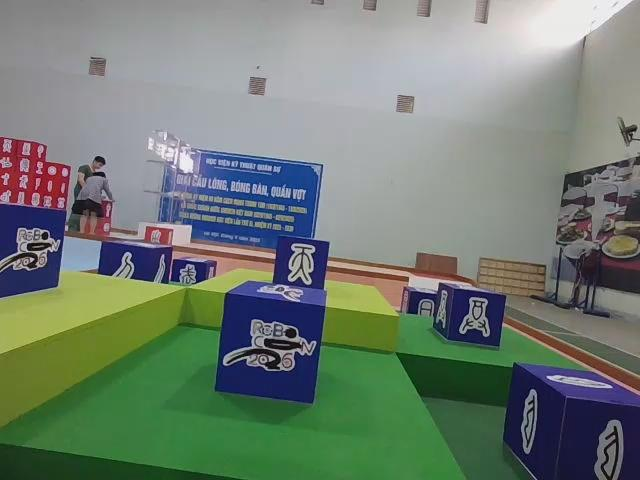R1 Blue: (215, 280, 329, 406), (0, 203, 65, 309)
R2 Fake Blue: (272, 237, 330, 292), (172, 257, 219, 286), (401, 288, 441, 317)
R2 Real Blue: (503, 365, 639, 480), (435, 283, 510, 350), (99, 241, 175, 286)
